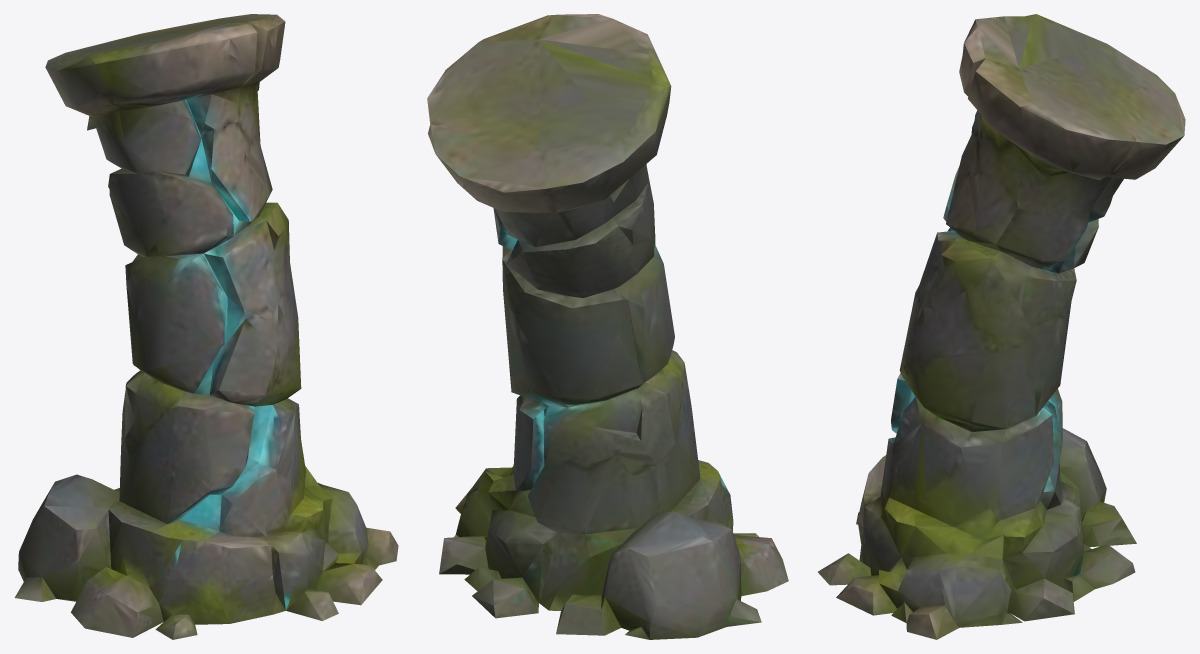
File: columna_agrietada.glb
The picture shows the model from 3 angles, left to right: view 1: azimuth 30°, elevation 25°; view 2: azimuth 150°, elevation 25°; view 3: azimuth 270°, elevation 25°; orthographic projection. The views are drawn at different scales.
Parts seen in each view (by area): view 1: columna_agrietada_malla; view 2: columna_agrietada_malla; view 3: columna_agrietada_malla.
Part boxes in pixels (box(x1,y1,x2,y2)): columna_agrietada_malla: box(14, 14, 398, 639); columna_agrietada_malla: box(427, 14, 788, 639); columna_agrietada_malla: box(818, 14, 1185, 639).
Size of the model in its own units: 0.2512 by 0.3784 by 0.2386.
Materials: 1 (1 with a texture image).
